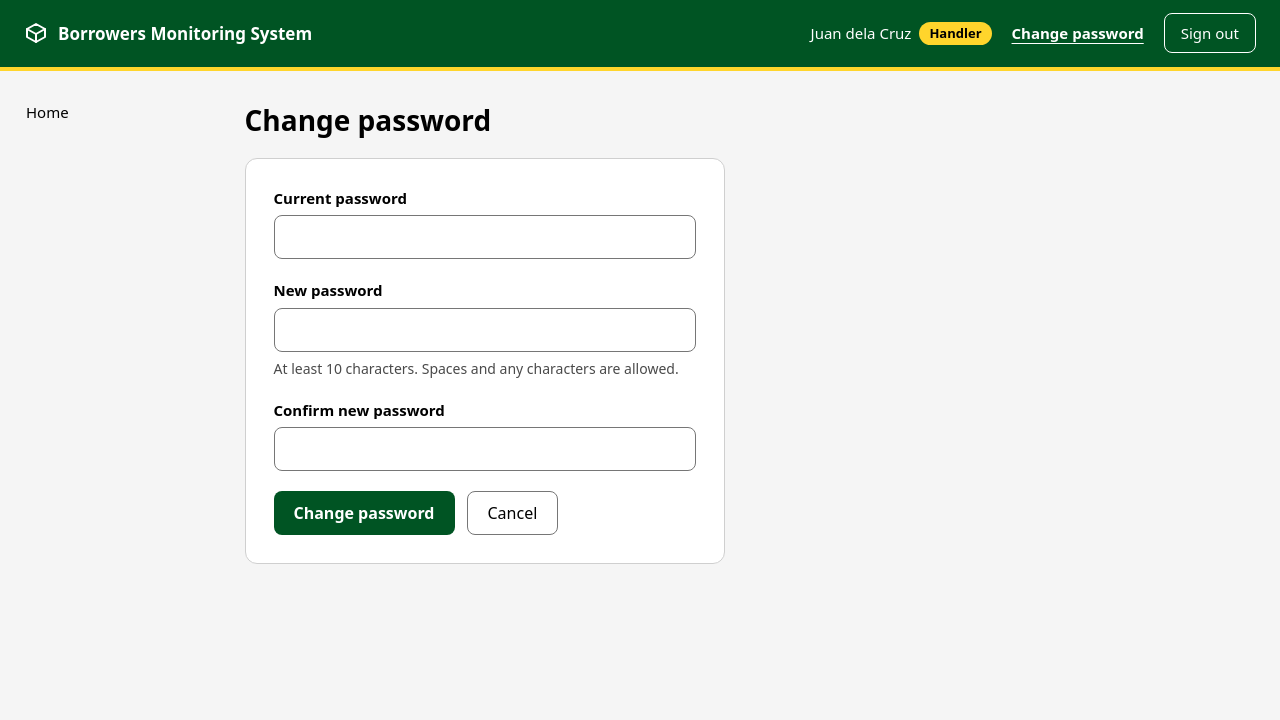
Test: the two new passwords must match, checked in the browser only
Type "old-password-1" into the password field labelled "Current password". click: [484, 237]
box: [274,215,696,259]
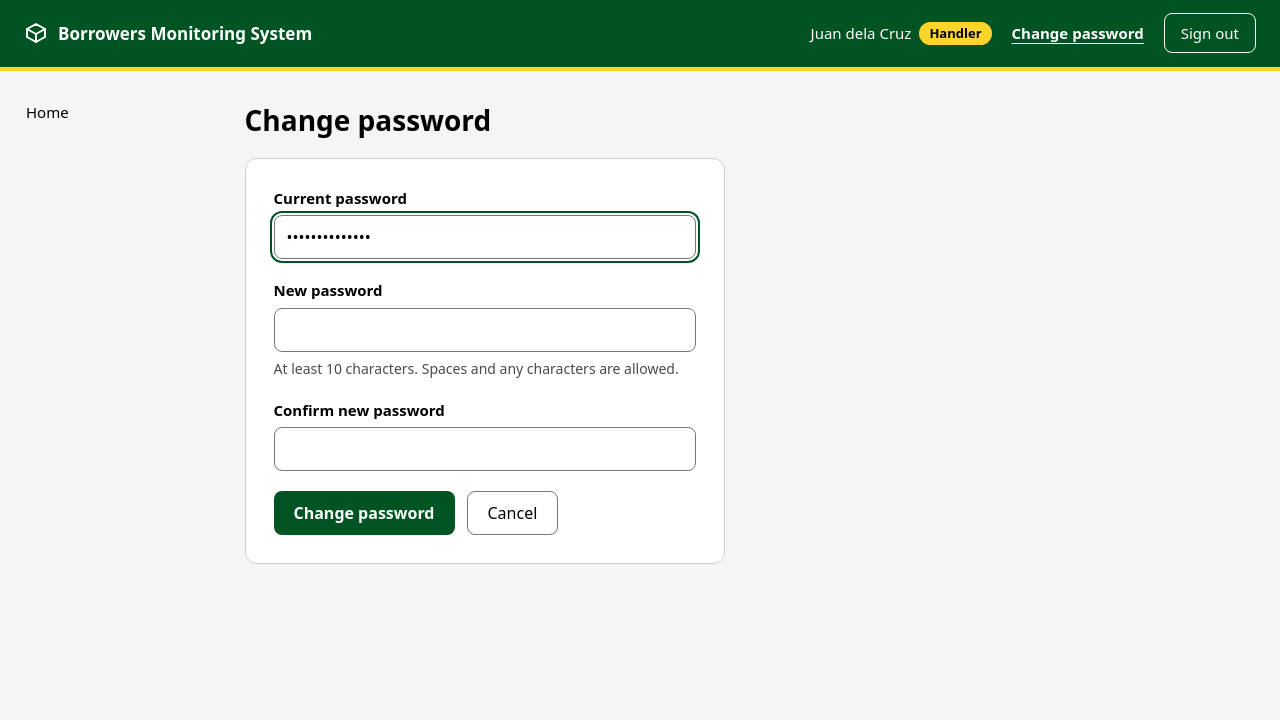
Type "a longer phrase" into the password field labelled "New password". click: [484, 330]
box: [274,308,696,352]
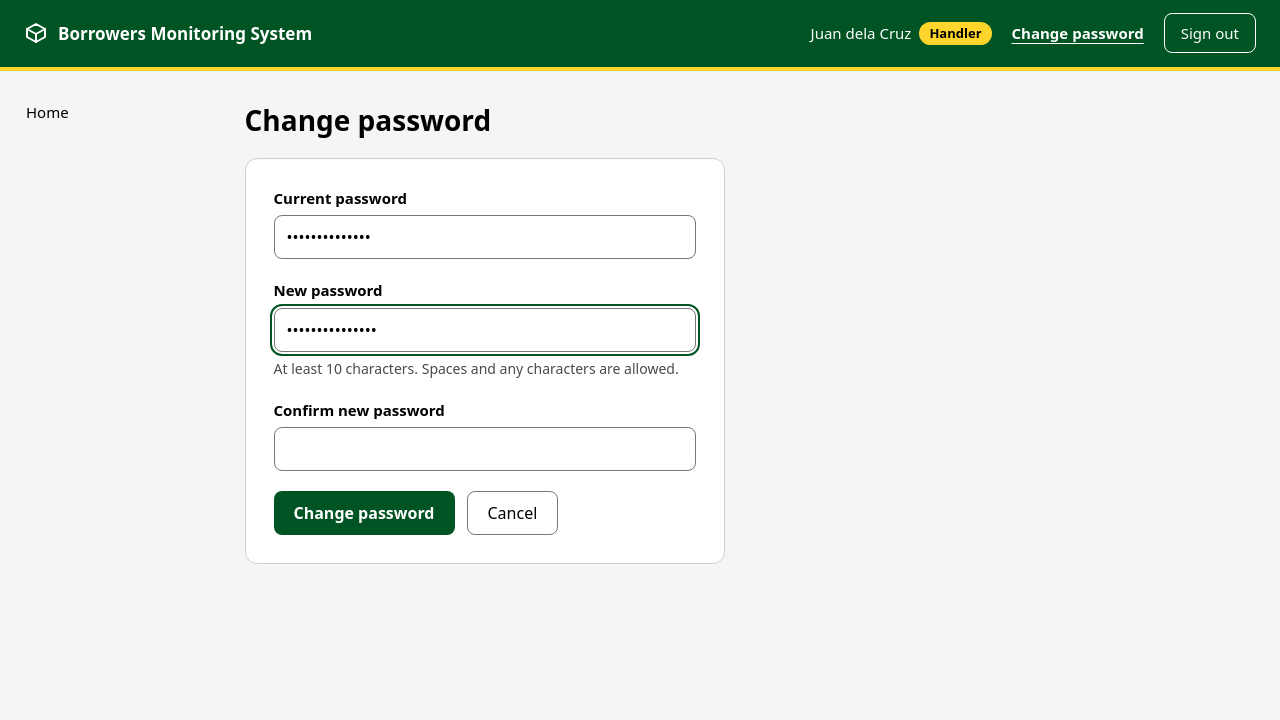
Type "a longer phrasf" into the password field labelled "Confirm new password". click: [484, 449]
box: [274,427,696,471]
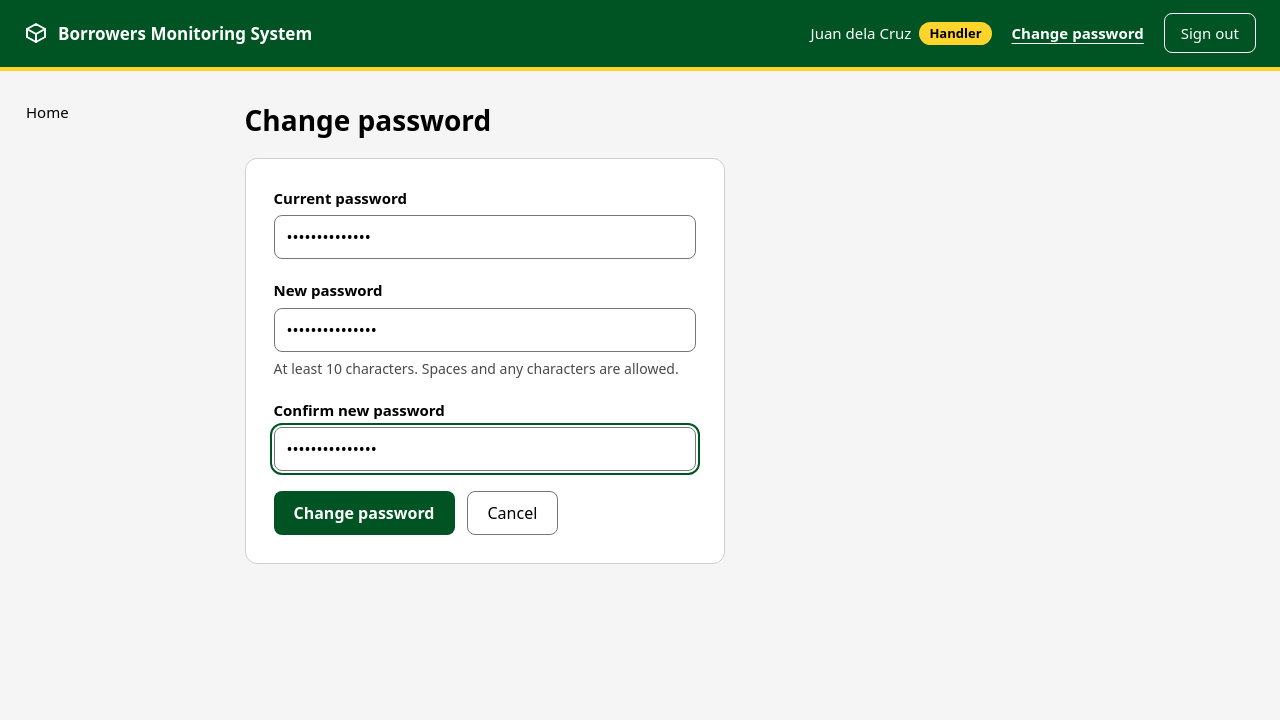
Click the button "Change password". click: [364, 513]
box: [274,491,454,535]
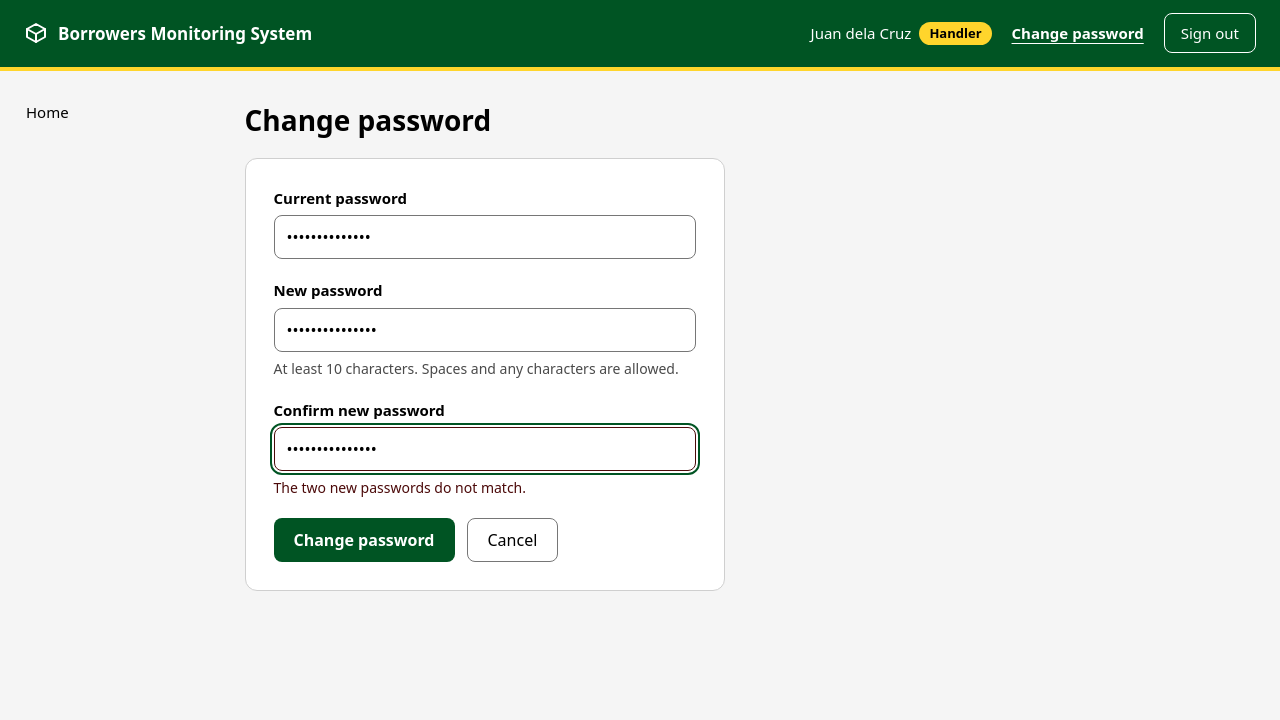
Check: the text "The two new passwords do not match." is shown, box [274,478,526,497]
